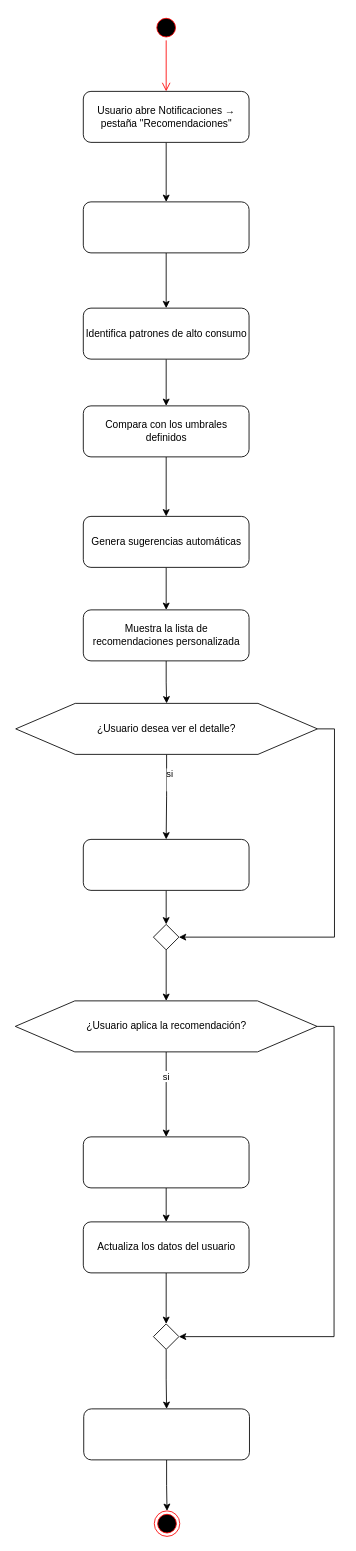
Some shapes in this 356 by 1551 pixel diagram are drawn without their labels. Each missing label, with the centre of its shape:
"Marca la recomendación como aplicada" belongs at point 165,1162.
"Muestra información detallada y consejos" belongs at point 165,864.
"Sistema analiza el historial de consumo" belongs at point 165,227.
"Usuario puede volver al Inicio (Dashboard)" belongs at point 166,1434.
